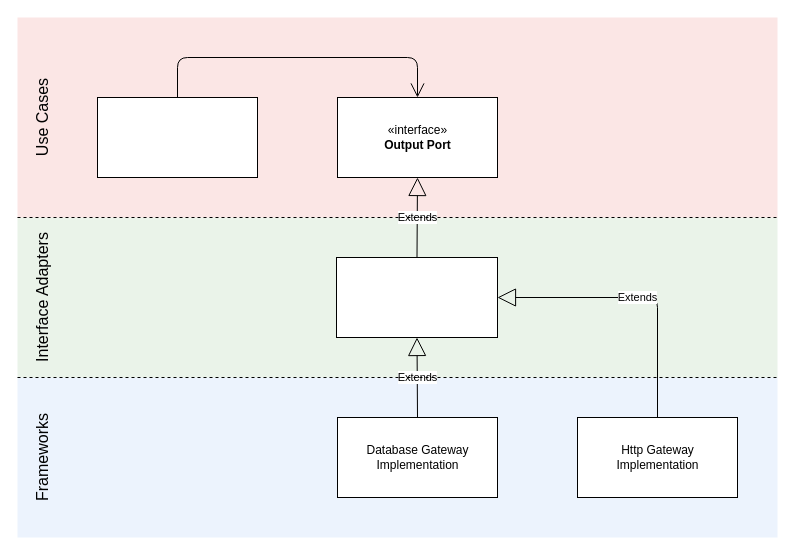
The diagram is 796 pixels wide and 554 high, and some of its shapes have lost their labels. Here are the shapes that lost their labels. From the top down, the centre of each, then its label:
At (177,137): "Use Case".
At (417,297): "«interface» Gateway".
